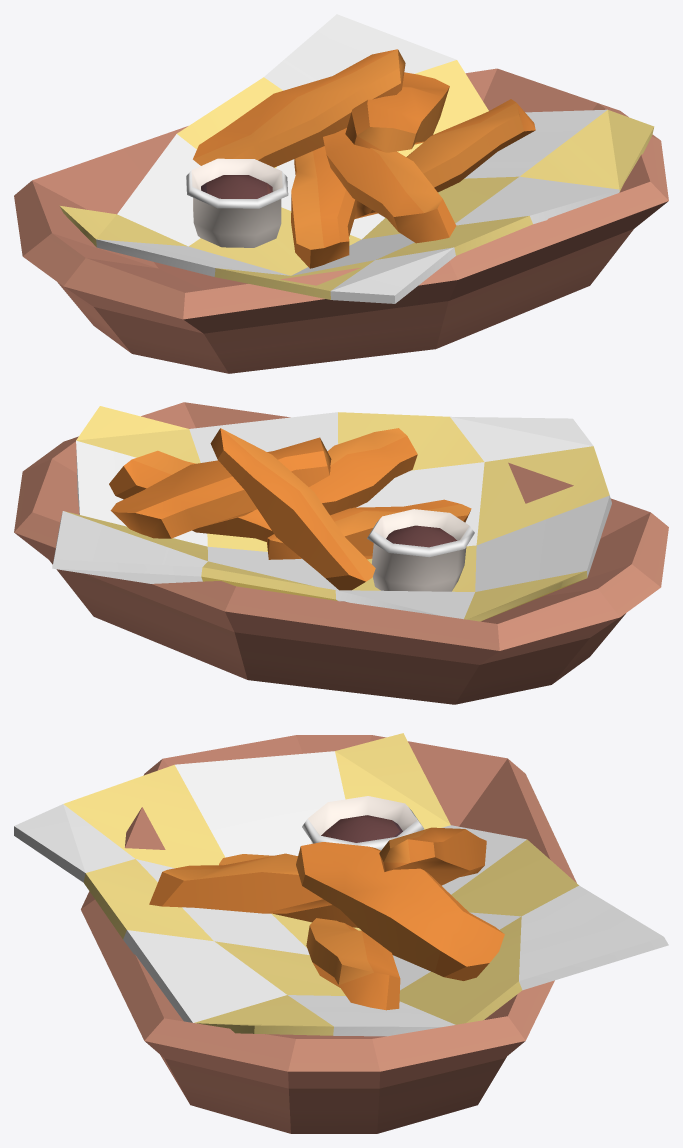
Rendered from Tenders_Mesh.fbx.
3 views of the same model, one above another, from view 1: azimuth 30°, elevation 25°; view 2: azimuth 150°, elevation 25°; view 3: azimuth 270°, elevation 25° (orthographic). The views are drawn at different scales.
Visible parts, largest first — view 1: Tenders_Mesh; view 2: Tenders_Mesh; view 3: Tenders_Mesh.
Boxes of the visible parts, left/top/right/bottom form: Tenders_Mesh: left=14, top=14, right=668, bottom=373; Tenders_Mesh: left=14, top=402, right=668, bottom=704; Tenders_Mesh: left=14, top=733, right=668, bottom=1133.
Size of the model in its own units: 27.65 by 8.37 by 23.29.
Materials: 1 (1 with a texture image).
